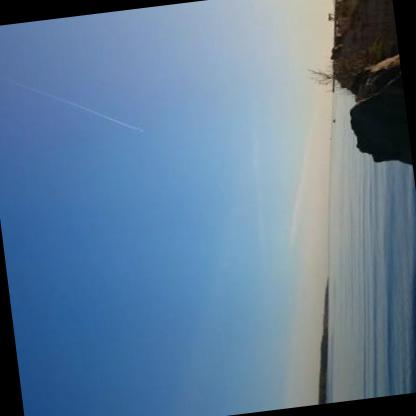plane: (134, 126, 147, 136)
